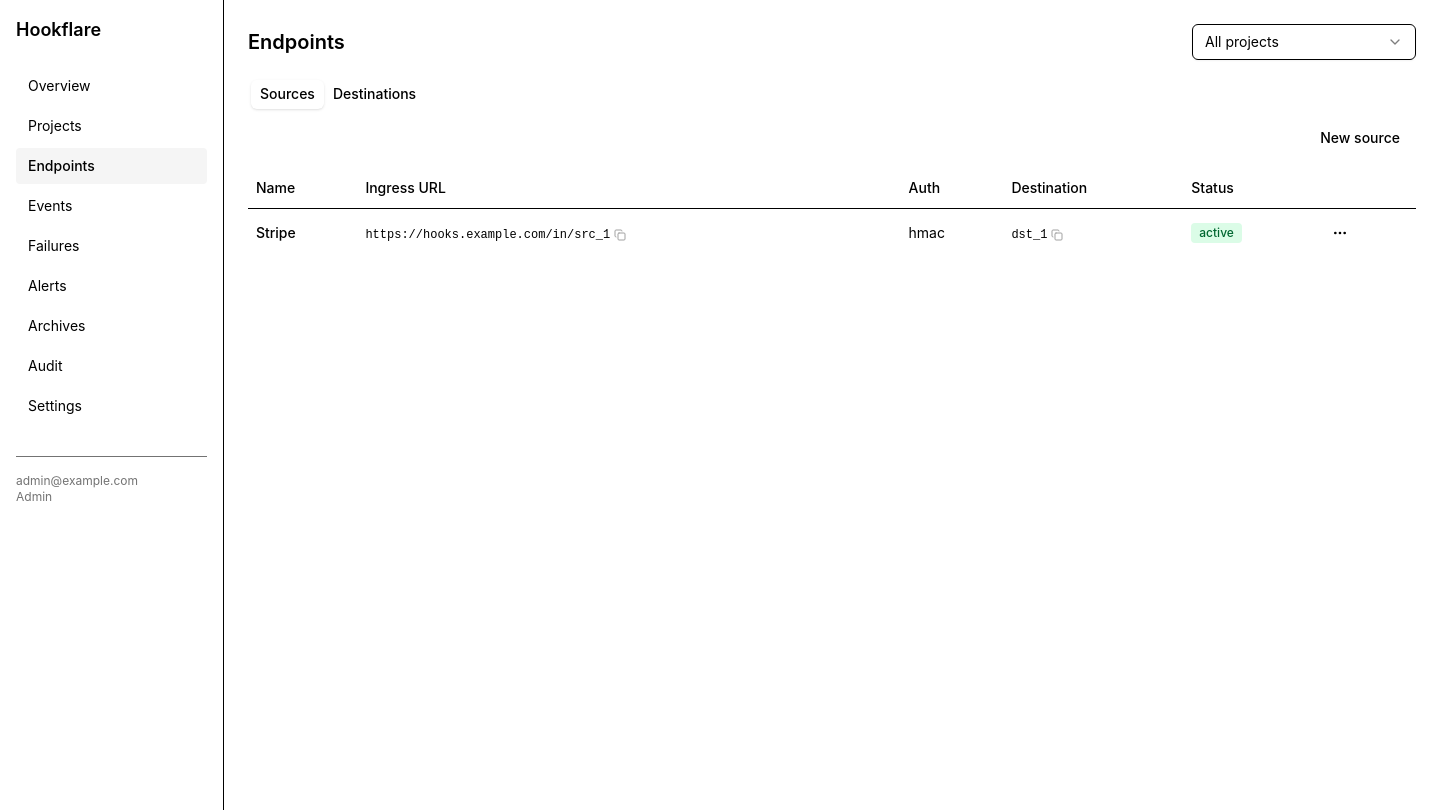
Scenario: Sources tab › links a source row to its detail page
The image size is (1440, 810).
What coordinates should you click on to do the following:
click the link "Stripe"
I would click on:
 (276, 232)
Its box is [256,224,296,240].
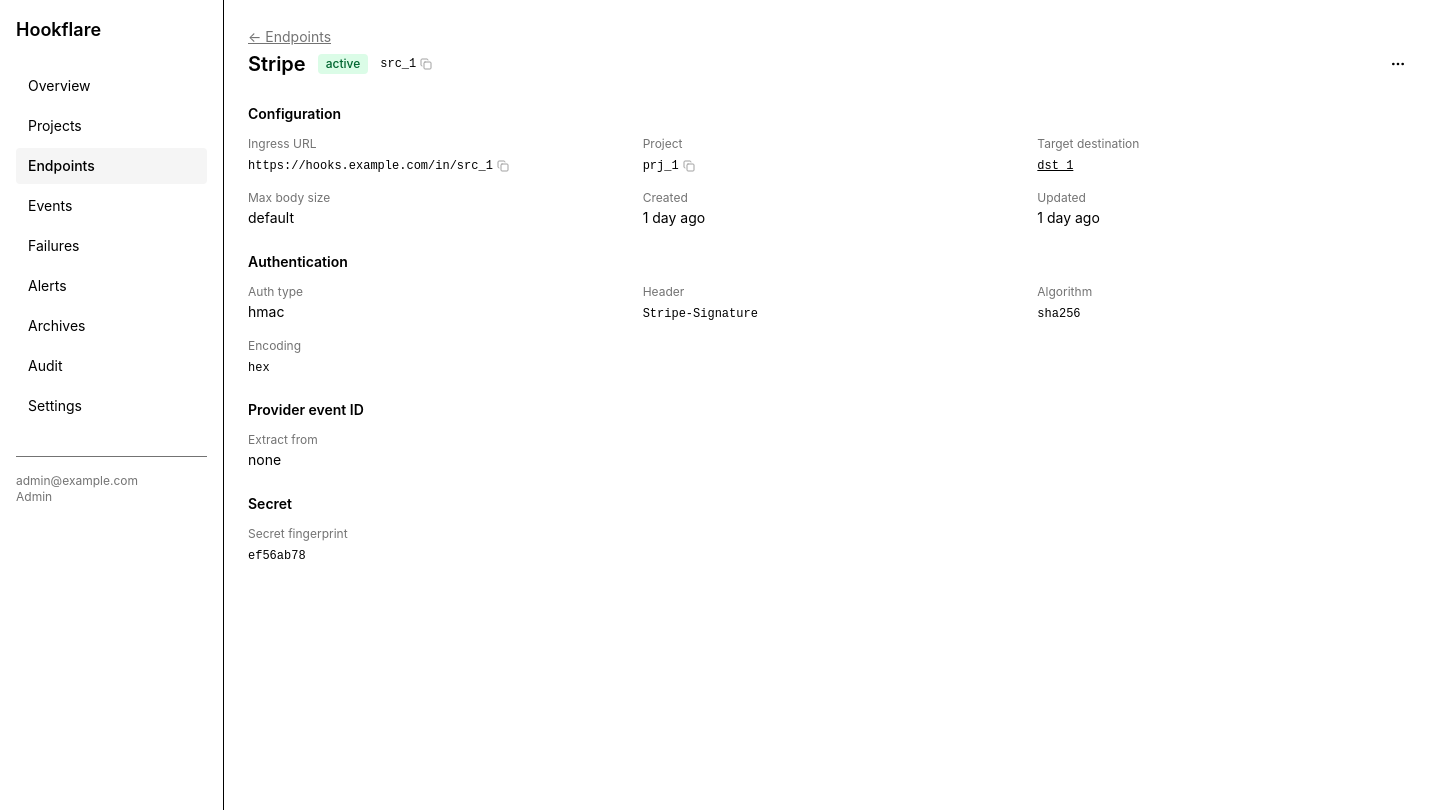
Check: the heading "Stripe" is shown, box [248,50,306,78]
